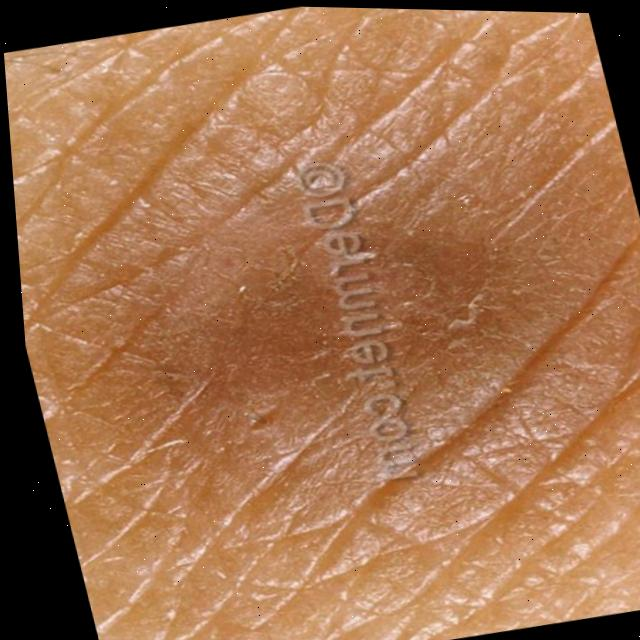Eczema: (302, 259, 507, 438)
